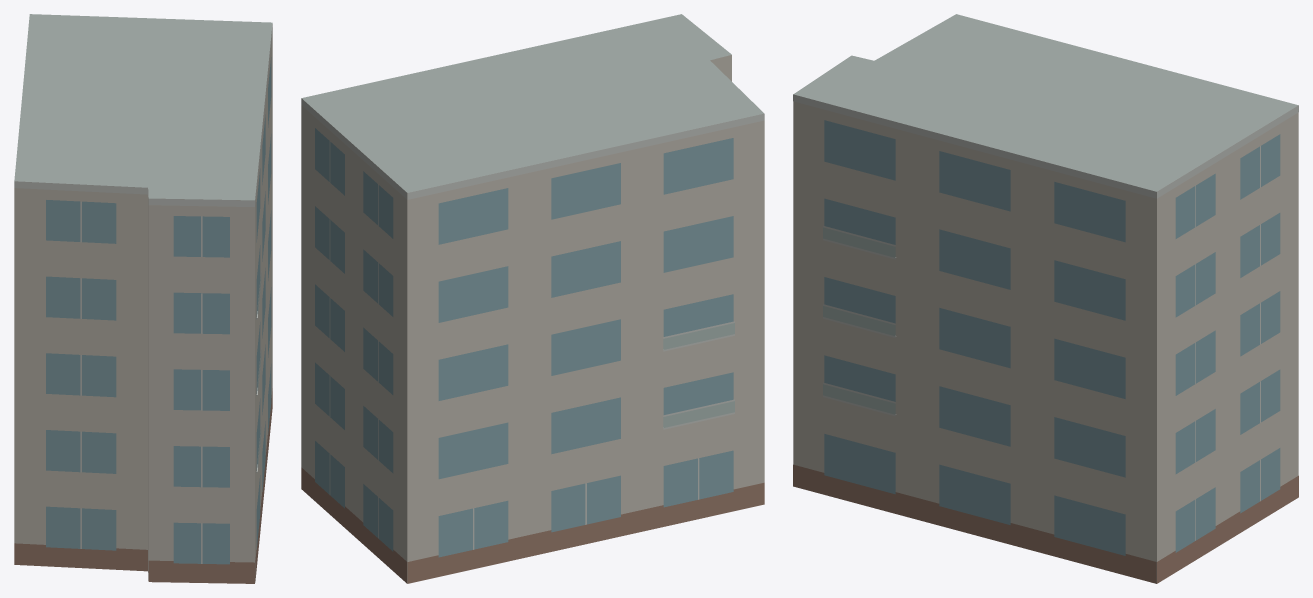
The model's file is survey-upis-32883668.glb.
3 renders of one model, left to right at view 1: azimuth 30°, elevation 25°; view 2: azimuth 150°, elevation 25°; view 3: azimuth 270°, elevation 25°, orthographic. The views are drawn at different scales.
Visible parts, largest first — view 1: survey-upis-32883668.tmp; view 2: survey-upis-32883668.tmp; view 3: survey-upis-32883668.tmp.
Boxes of the visible parts, bbox=[...] form: survey-upis-32883668.tmp: bbox=[14, 14, 272, 583]; survey-upis-32883668.tmp: bbox=[301, 14, 764, 583]; survey-upis-32883668.tmp: bbox=[793, 14, 1298, 583].
Bounding box in the file's own units: 13.43 × 13.8 × 16.14.
